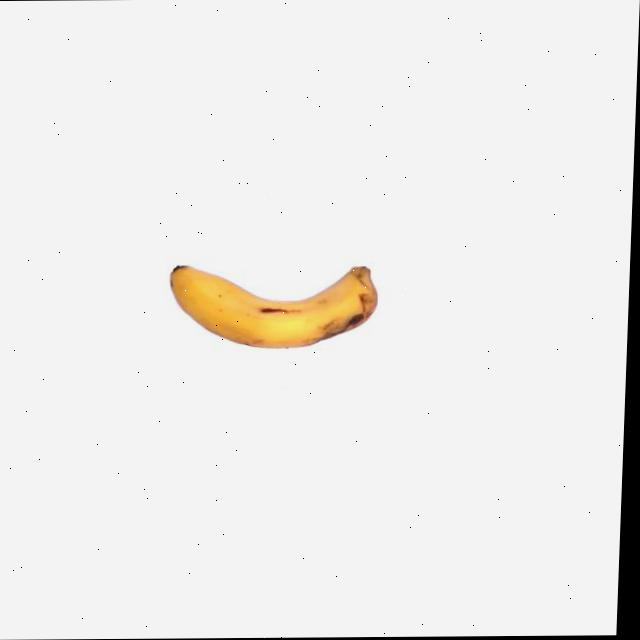banana: (163, 254, 381, 351)
